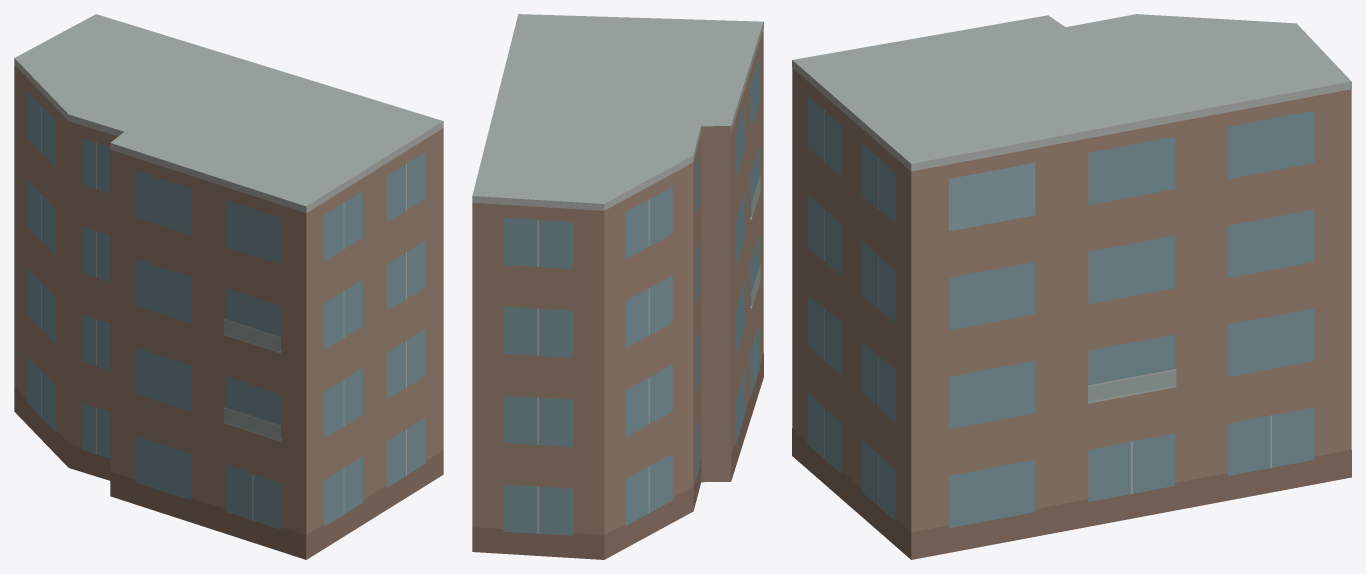
File: survey-upis-32494113.glb
3 views of the same model, side by side, from view 1: azimuth 30°, elevation 25°; view 2: azimuth 150°, elevation 25°; view 3: azimuth 270°, elevation 25° (orthographic). The views are drawn at different scales.
Visible parts, largest first — view 1: survey-upis-32494113.tmp; view 2: survey-upis-32494113.tmp; view 3: survey-upis-32494113.tmp.
Boxes of the visible parts, left/top/right/bottom form: survey-upis-32494113.tmp: left=14, top=14, right=443, bottom=559; survey-upis-32494113.tmp: left=472, top=14, right=763, bottom=559; survey-upis-32494113.tmp: left=792, top=14, right=1351, bottom=559.
Size of the model in its own units: 10.41 by 12.8 by 16.41.
